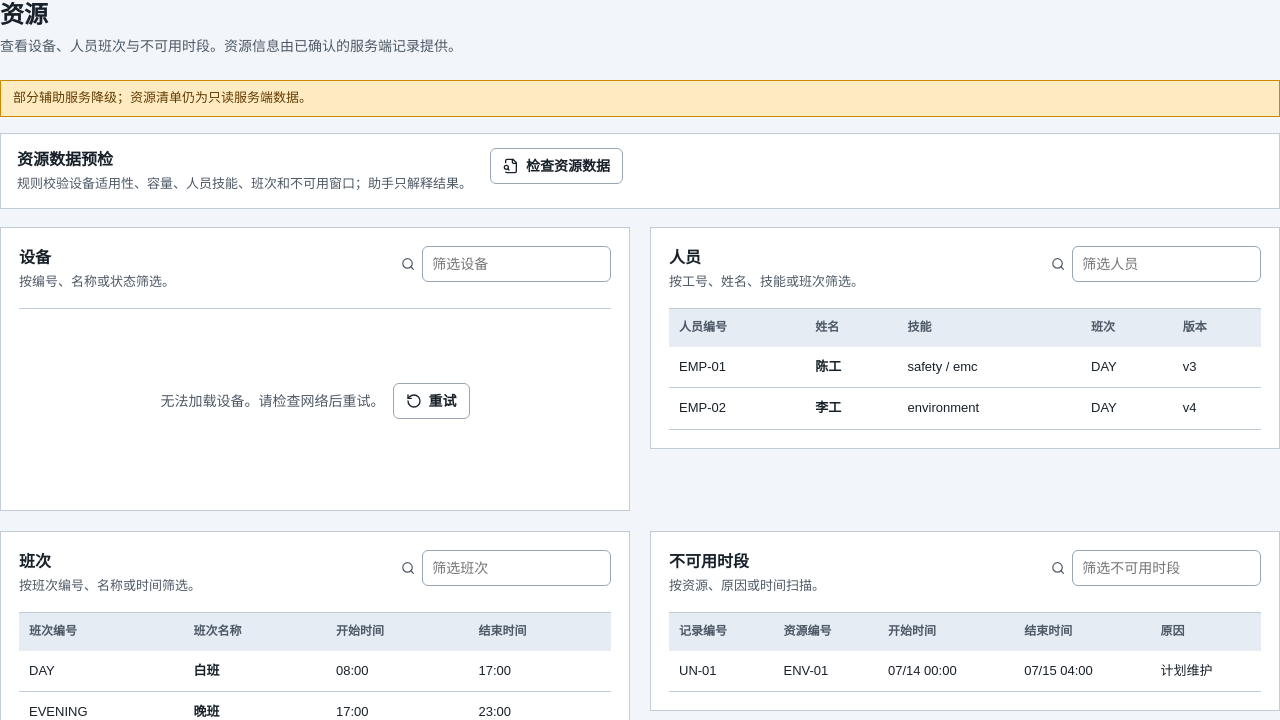
Test: ResourcesPage › shows a surface error and retries only that surface
The width and height of the screenshot is (1280, 720).
Expected: the text "无法加载设备。请检查网络后重试。" is shown, [160,390,384,411]
What coordinates should you click on to do the following:
click the button with aria-label "重试加载设备"
I would click on:
 (431, 401)
Its box is [392,383,470,419].
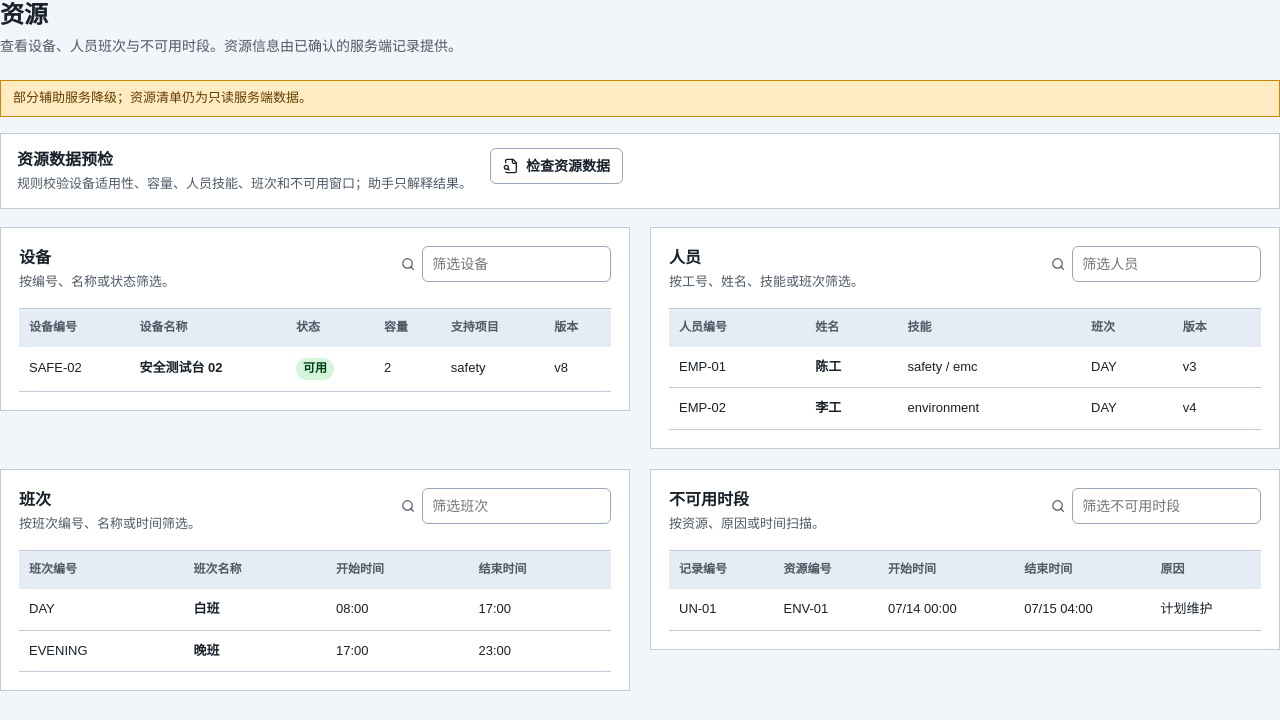
Expected: the text "安全测试台 02" is shown, [140,360,223,375]
